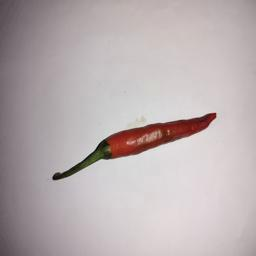Buah Cabai Sehat: (97, 110, 217, 161)
